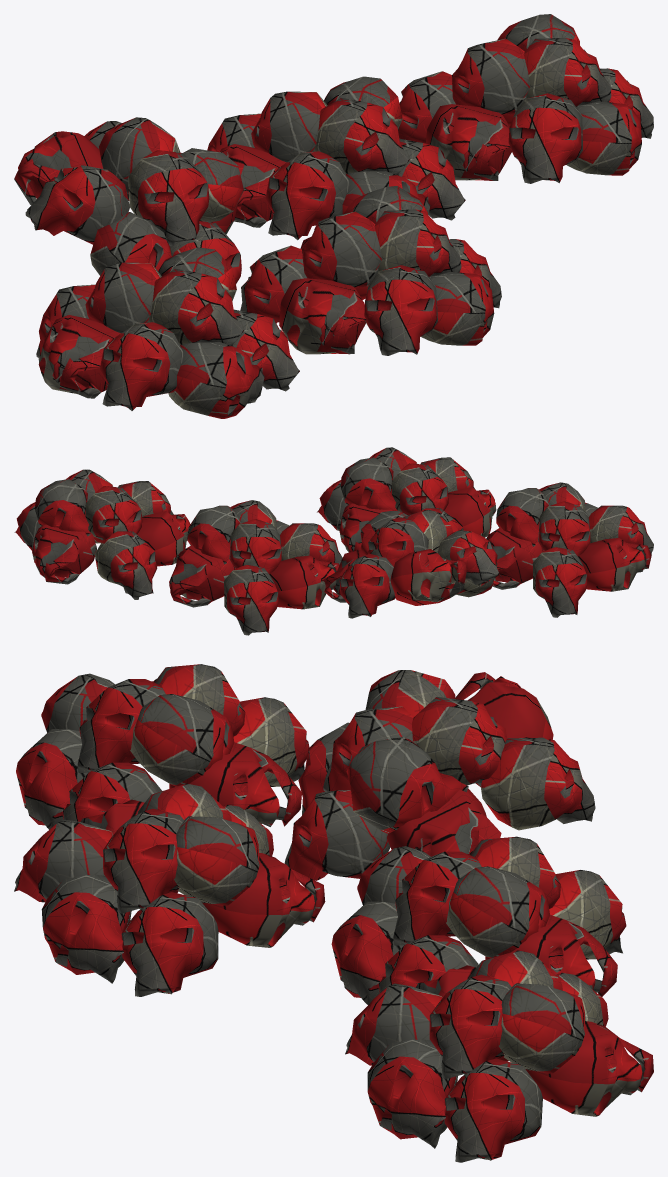
File: SkullPile2.fbx
3 renders of one model, top to bottom at view 1: azimuth 30°, elevation 25°; view 2: azimuth 150°, elevation 25°; view 3: azimuth 270°, elevation 25°, orthographic. The views are drawn at different scales.
Parts seen in each view (by area): view 1: polySurface68; view 2: polySurface68; view 3: polySurface68.
Part boxes in pixels (x1,y1,x2,y2): polySurface68: (14,14,653,418); polySurface68: (14,447,653,635); polySurface68: (14,664,653,1162).
Size of the model in its own units: 7.12 by 1.35 by 4.51.
